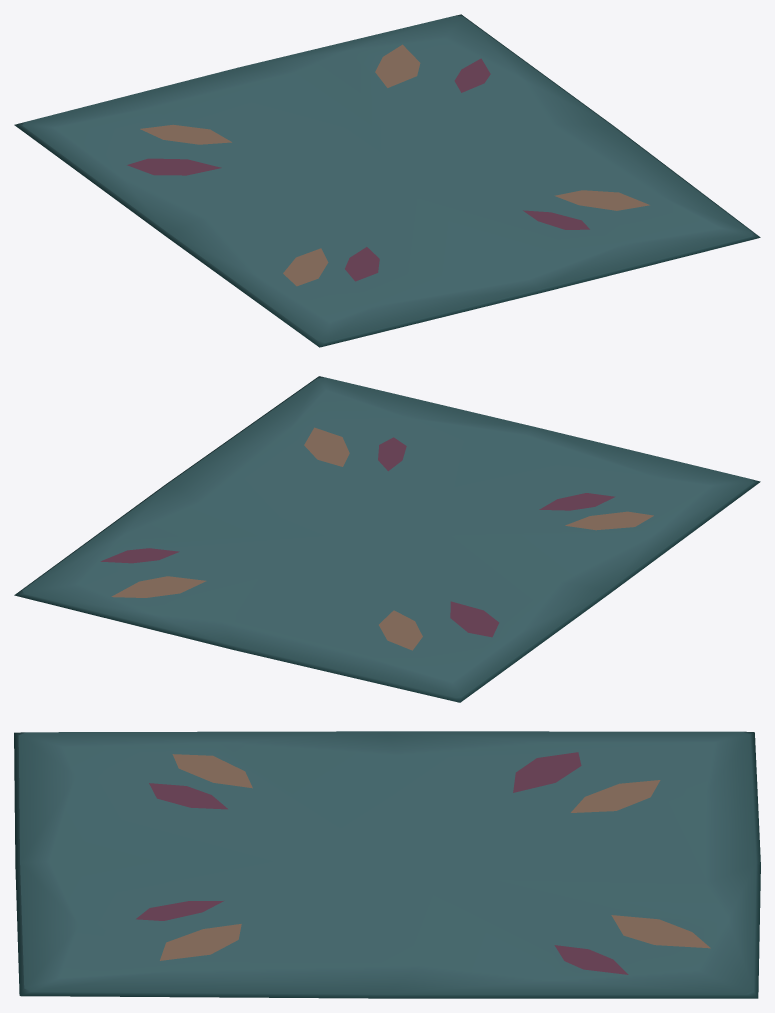
Rendered from TSP_Rug_05B.fbx.
3 views of the same model, one above another, from view 1: azimuth 30°, elevation 25°; view 2: azimuth 150°, elevation 25°; view 3: azimuth 270°, elevation 25° (orthographic). The views are drawn at different scales.
Parts seen in each view (by area): view 1: TSP_Rug_05B; view 2: TSP_Rug_05B; view 3: TSP_Rug_05B.
Part boxes in pixels (x1,y1,x2,y2): TSP_Rug_05B: (14,14,760,347); TSP_Rug_05B: (14,376,760,702); TSP_Rug_05B: (14,731,760,998).
Size of the model in its own units: 3.35 by 0.0225 by 3.97.
